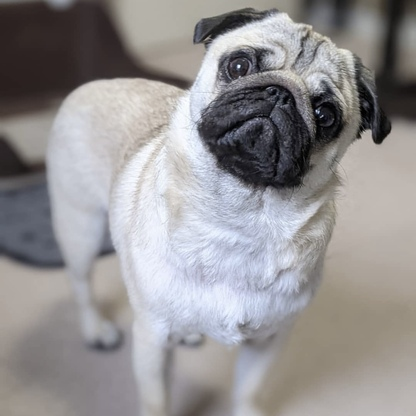Pug: (41, 2, 397, 416)
